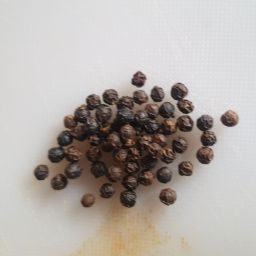Pepper corns: (52, 57, 244, 217), (24, 69, 238, 212), (104, 103, 220, 162)
